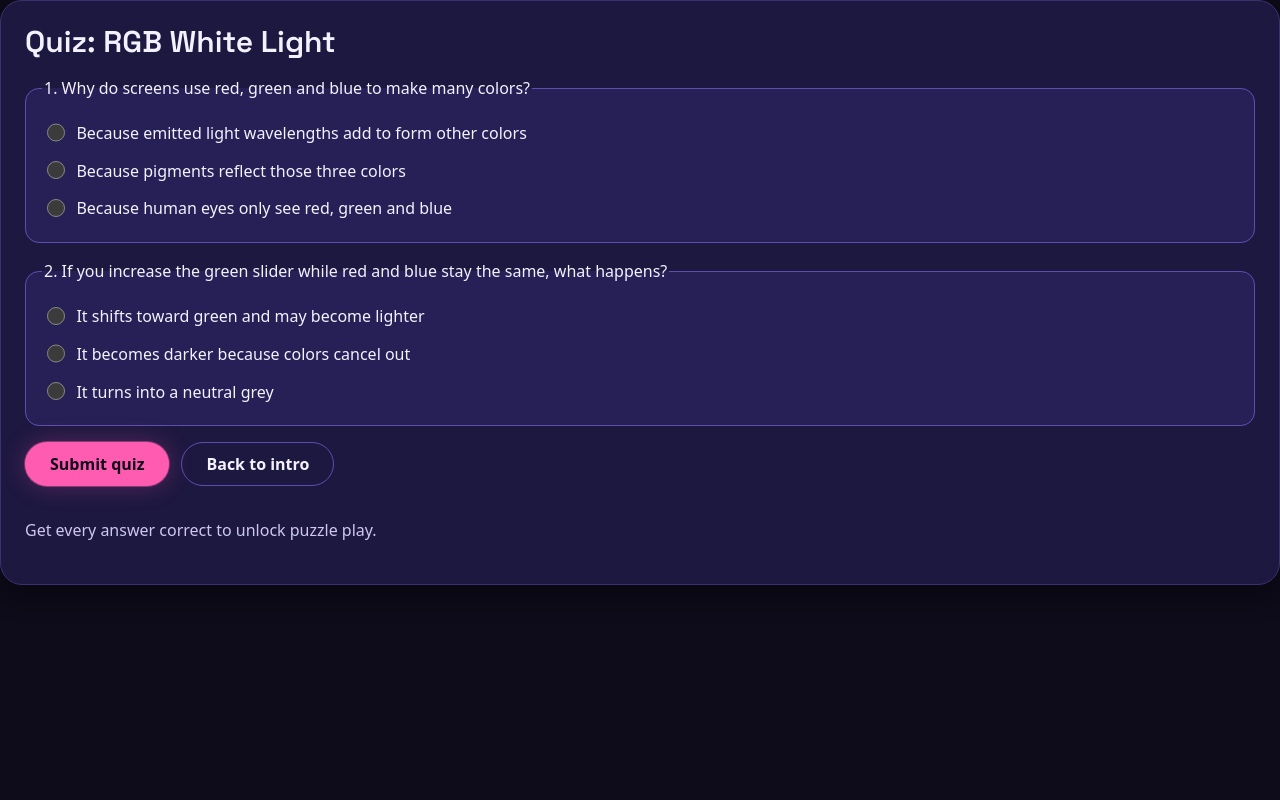
Test: LearningQuiz › asks for every answer before submitting
Click the button "Submit quiz": (97, 464) [25, 442, 170, 486]
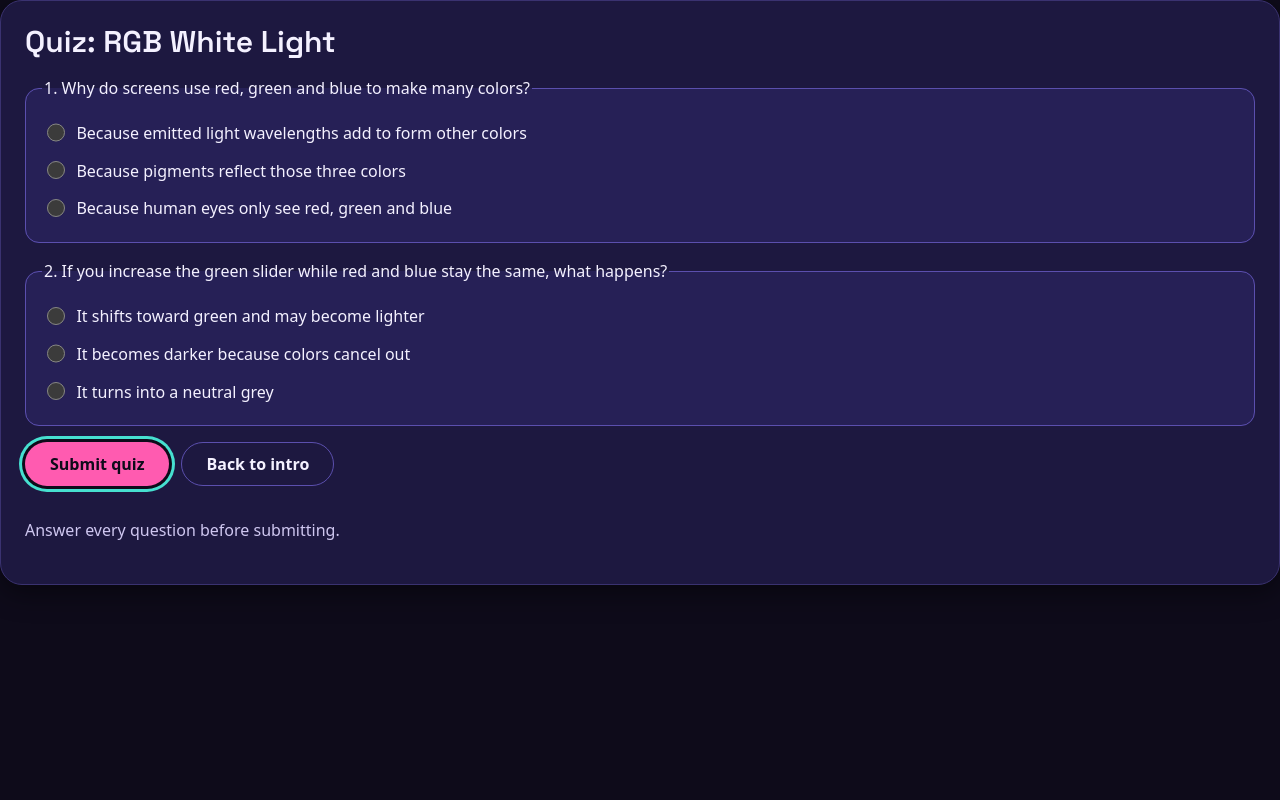
Check: the text "Answer every question before submitting." is shown, box [25, 519, 340, 541]
